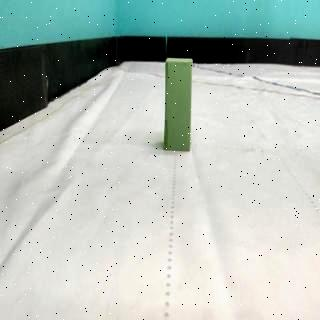greenbox: (163, 56, 194, 152)
